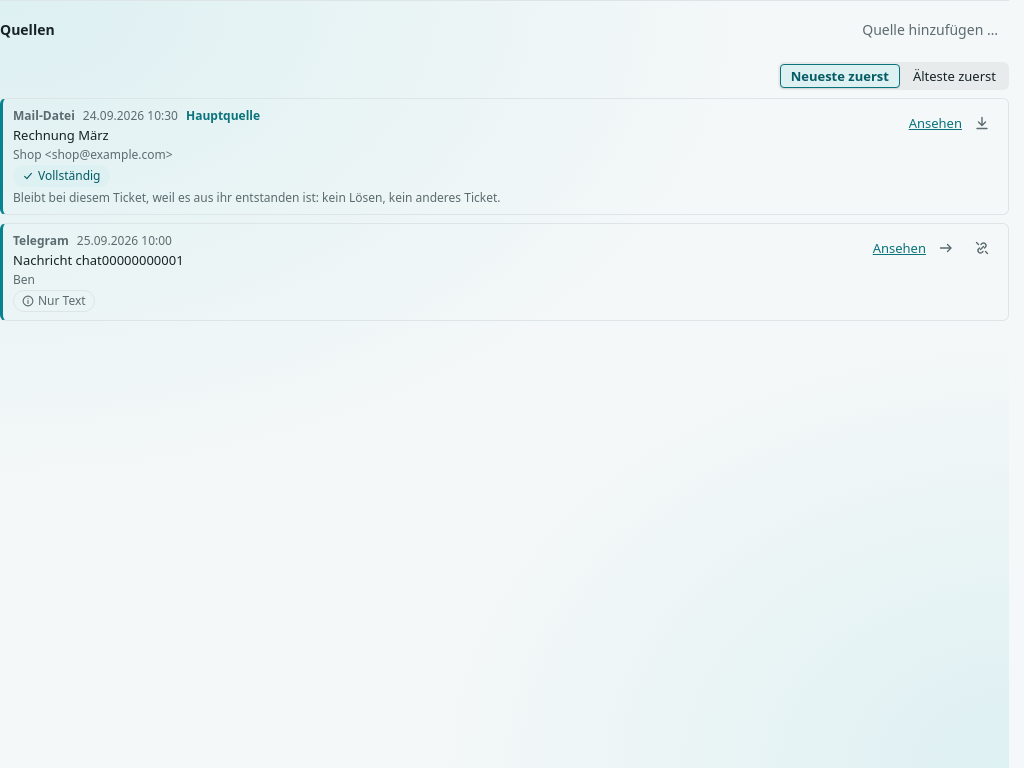
Test: TicketSources › moves a linked source to another ticket (ADR-0031 addendum)
The width and height of the screenshot is (1024, 768).
Click the button named "„Nachricht chat00000000001“ anderem Ticket zuordnen …".
click(946, 248)  # box [930, 232, 962, 264]
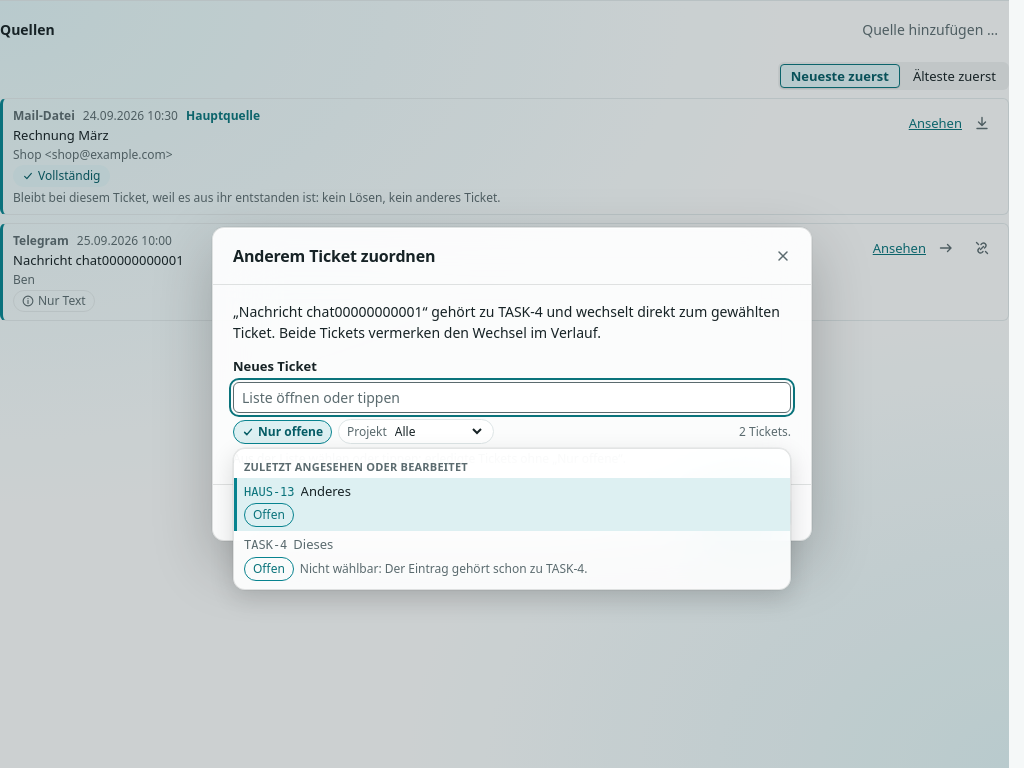
Press Enter in the dropdown labelled "Neues Ticket", box [233, 382, 791, 413]
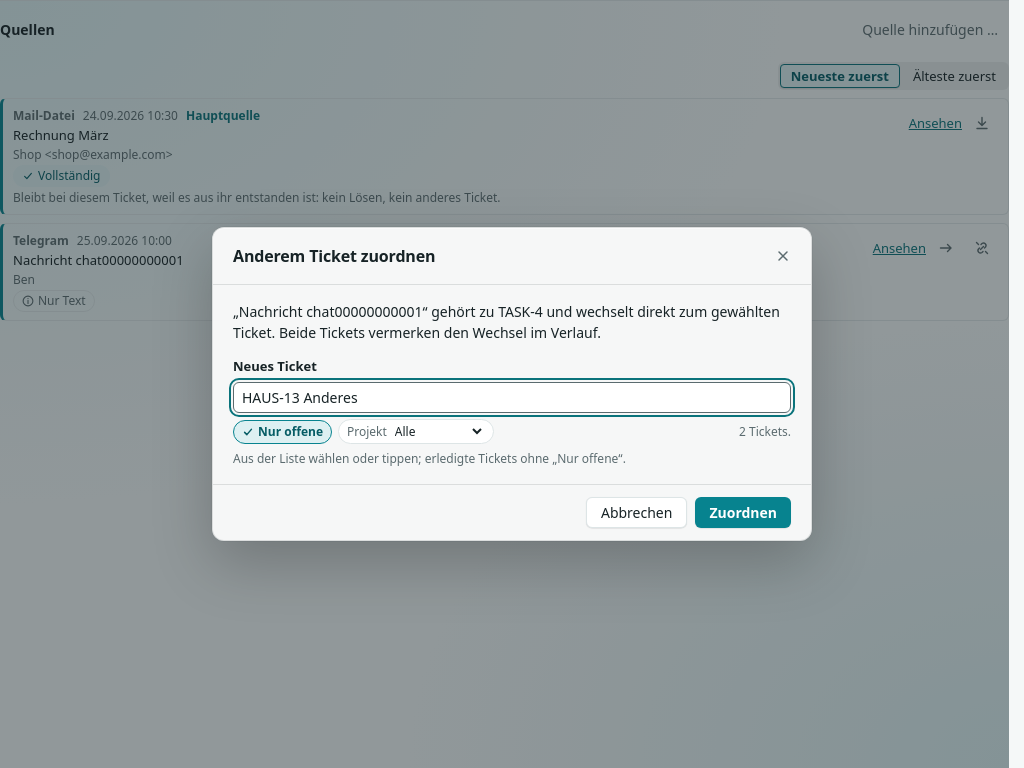
Result: the dropdown labelled "Neues Ticket" holds "HAUS-13 Anderes" at [233, 382, 791, 413]
Click the button "Zuordnen".
click(743, 513)  # box [695, 497, 791, 528]
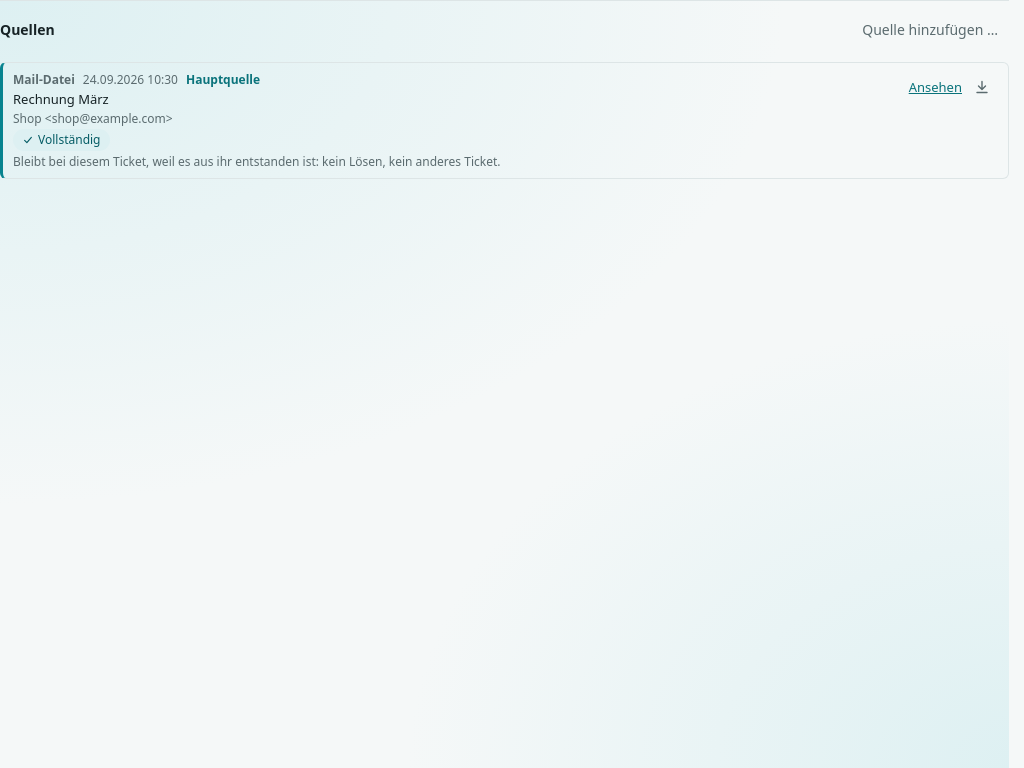
Result: the dialog is gone
Result: the number of list items is 1 at [0, 62, 1009, 179]
